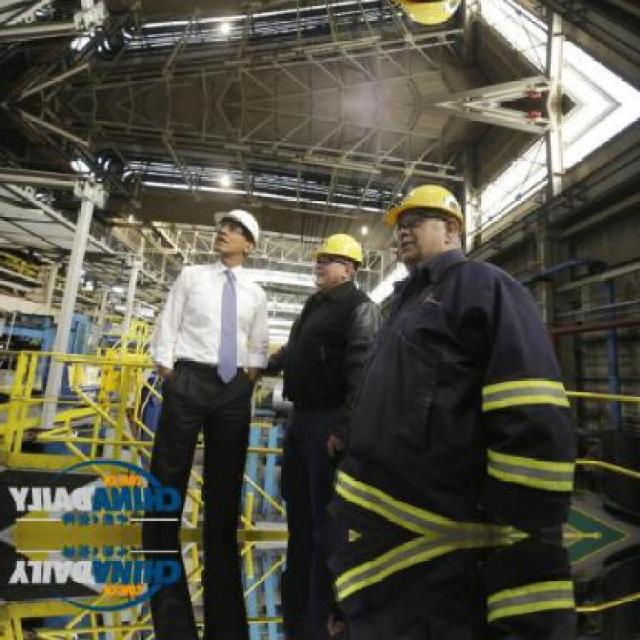Reflective-Jacket: (308, 255, 617, 637)
Safety-Helmet: (380, 178, 472, 234), (208, 203, 268, 251), (305, 226, 369, 269)
